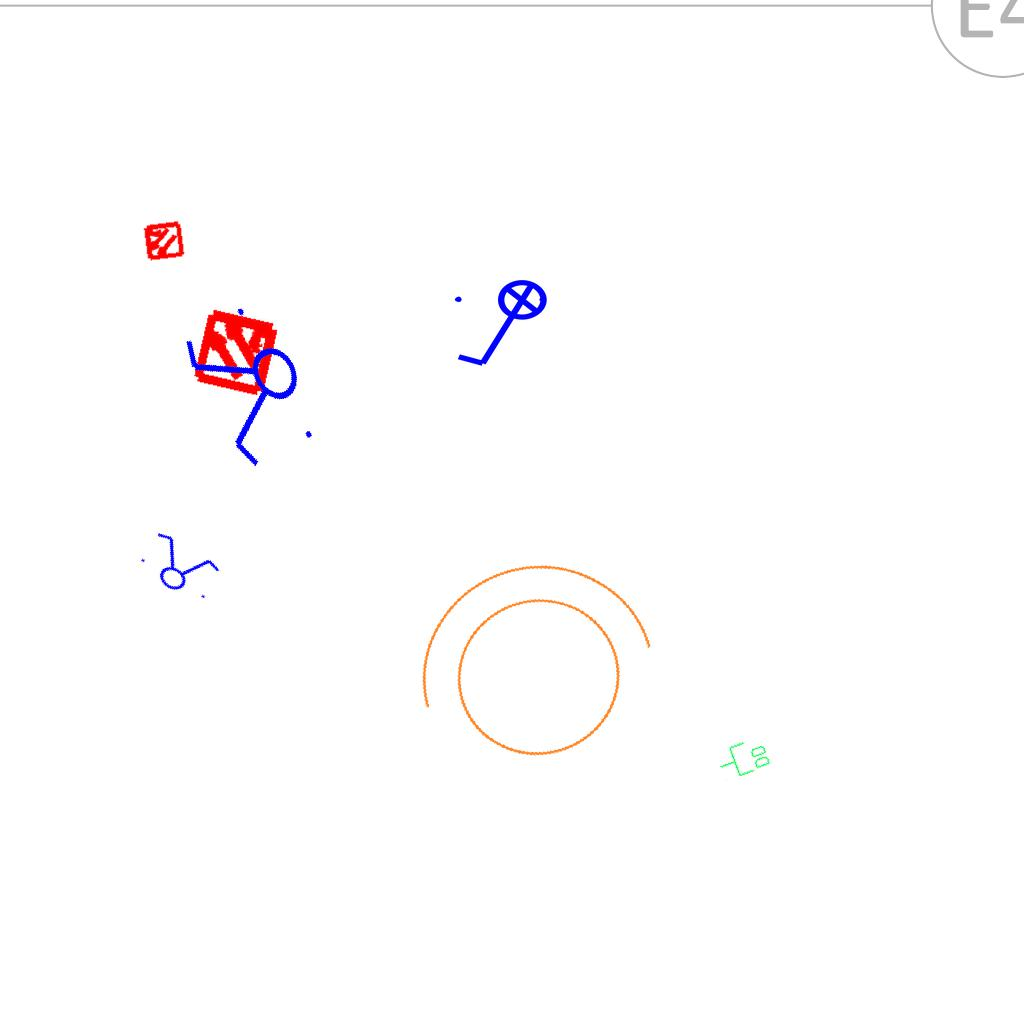Ausschalter_beleuchtet: (449, 278, 561, 374)
Datenanschluss_zweifach: (713, 734, 774, 784)
OT_Multisensormelder_(Kombination_RMO_WMD): (168, 282, 305, 419), (131, 209, 195, 273)
Scheinwerfer_fuer_Alarmbeleuchtung: (373, 526, 687, 813)
Serienschalter: (170, 290, 336, 484), (130, 524, 228, 610)
